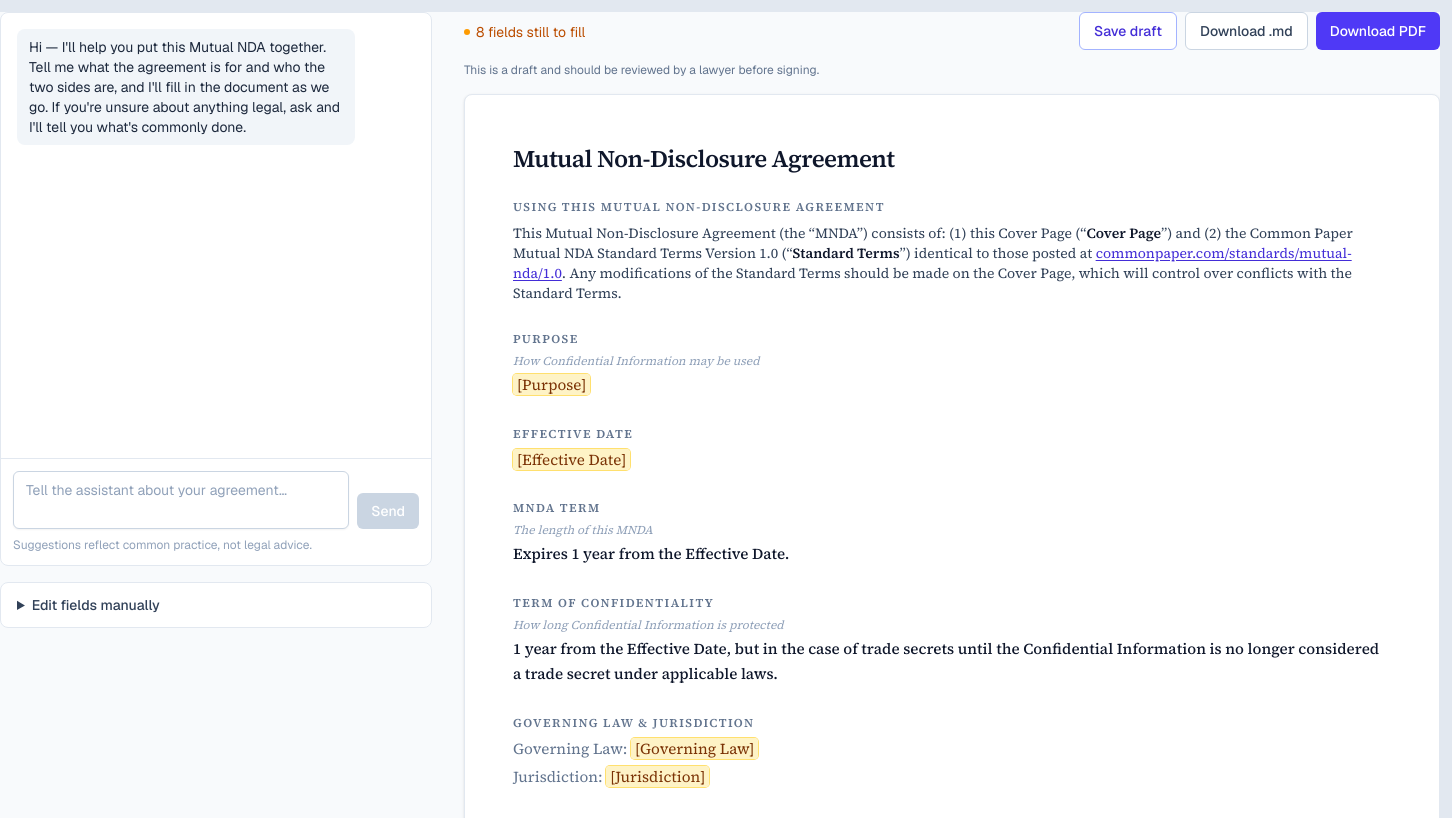
Test case: drafting by chat › counts the answered fields down as the assistant fills them
The width and height of the screenshot is (1452, 818).
Expected: the button "8 fields still to fill" is shown, x1=464 y1=22 x2=585 y2=42
Step 1. Type "A partnership, starting the 9th of March 2026." into the text box named "Message the drafting assistant" → (181, 500), box x1=13 y1=471 x2=349 y2=529
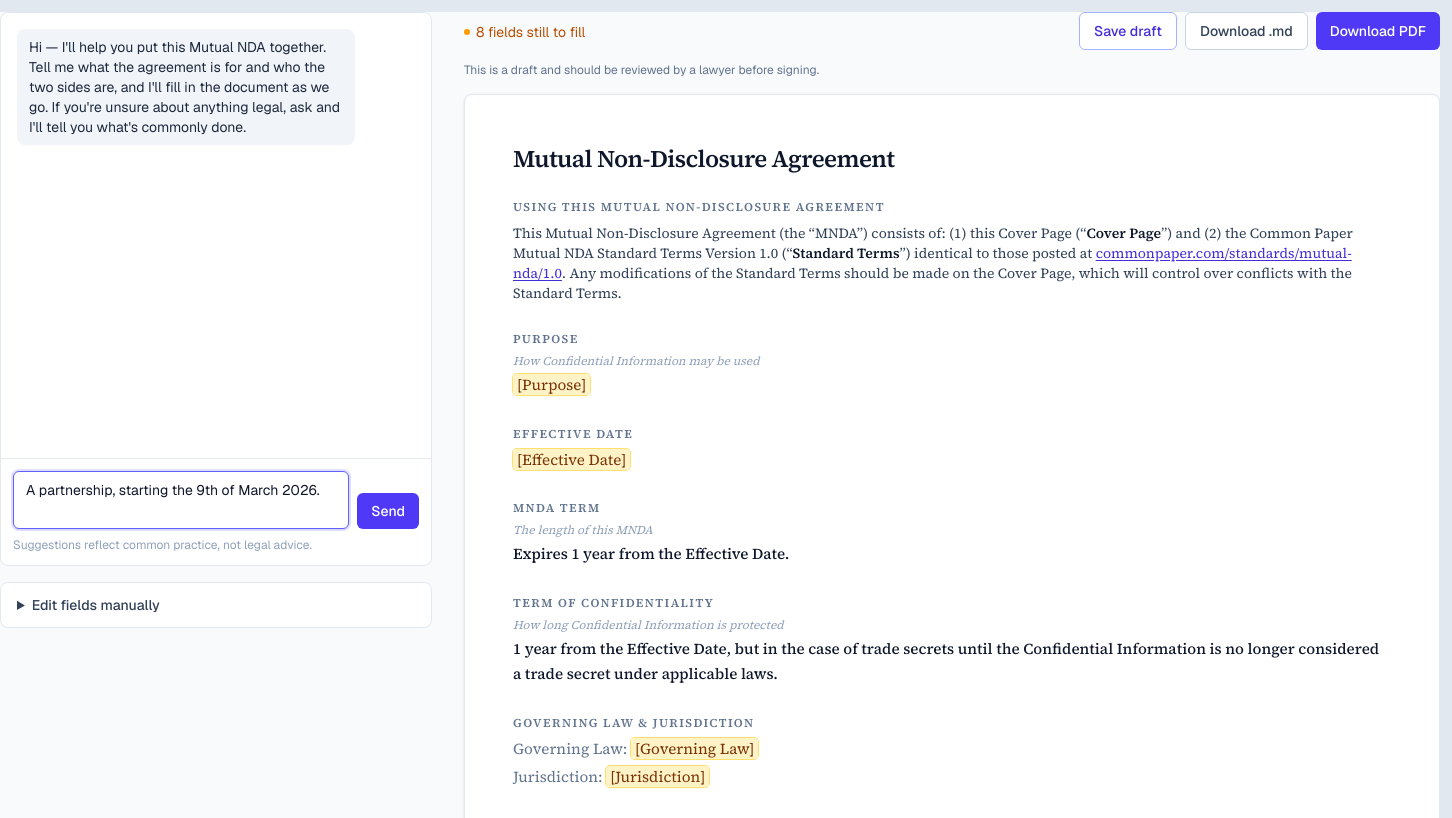
Step 2. Click the button "Send" → (388, 511), box x1=357 y1=493 x2=419 y2=529
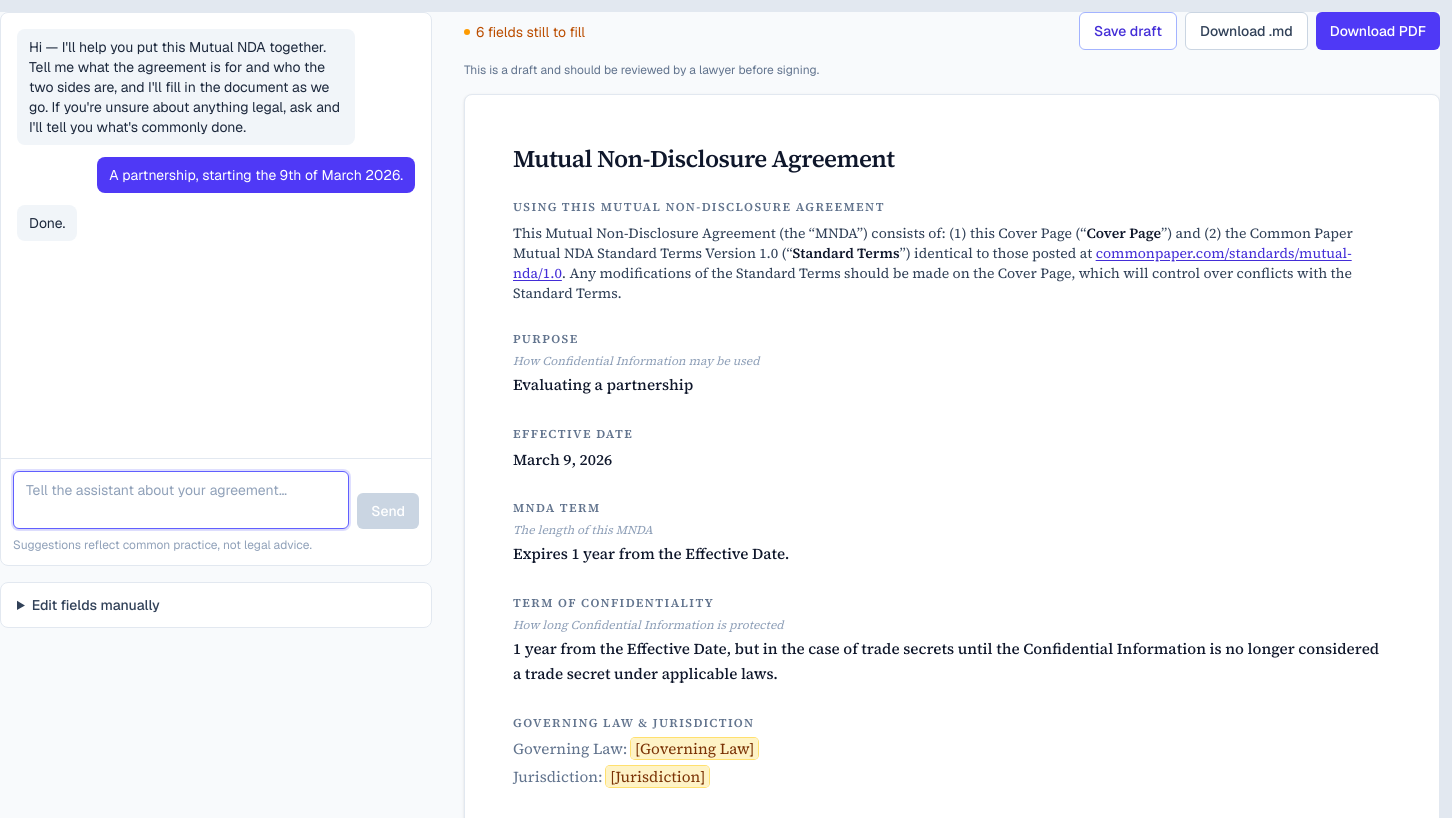
Now the text "Done." is shown, box x1=17 y1=205 x2=77 y2=241
Now the button "6 fields still to fill" is shown, box x1=464 y1=22 x2=585 y2=42
